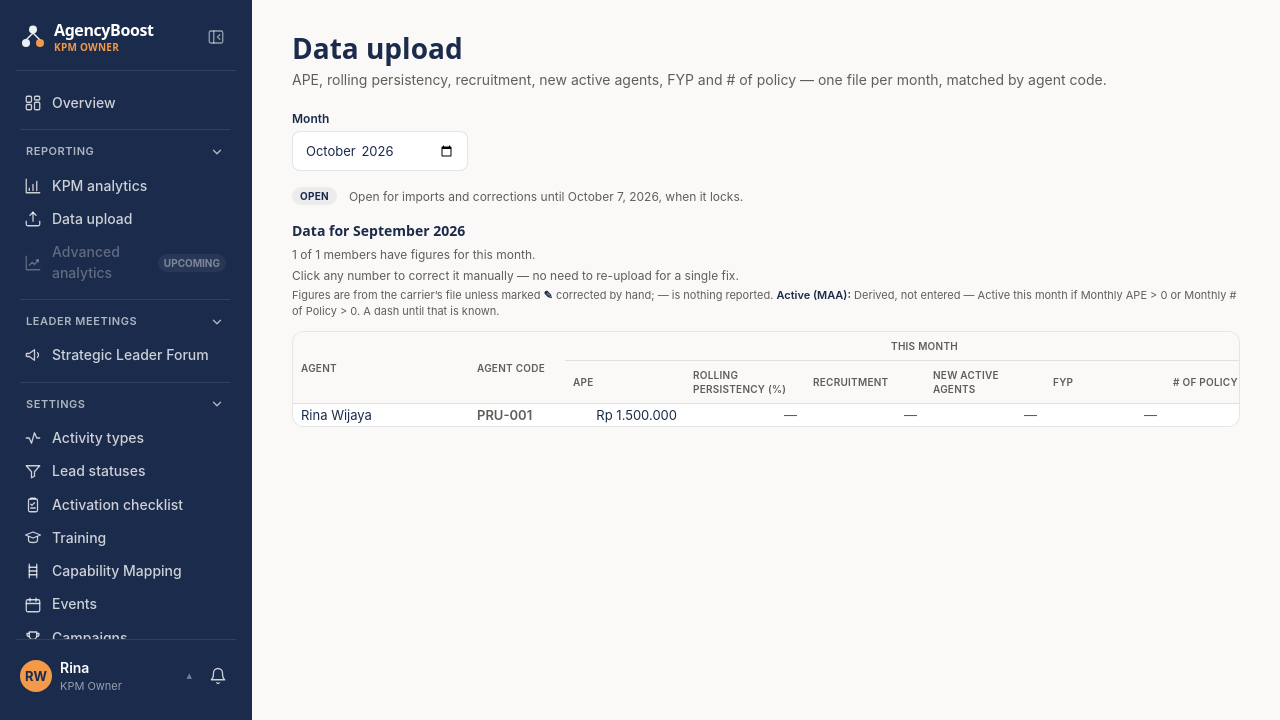
Test case: screens have no axe violations › the month with a figure being corrected, and a refusal on it (P9-T5)
Click the button with aria-label "Correct APE this month for Rina Wijaya, now Rp 1.500.000".
click(637, 415)  # box [592,407,681,423]
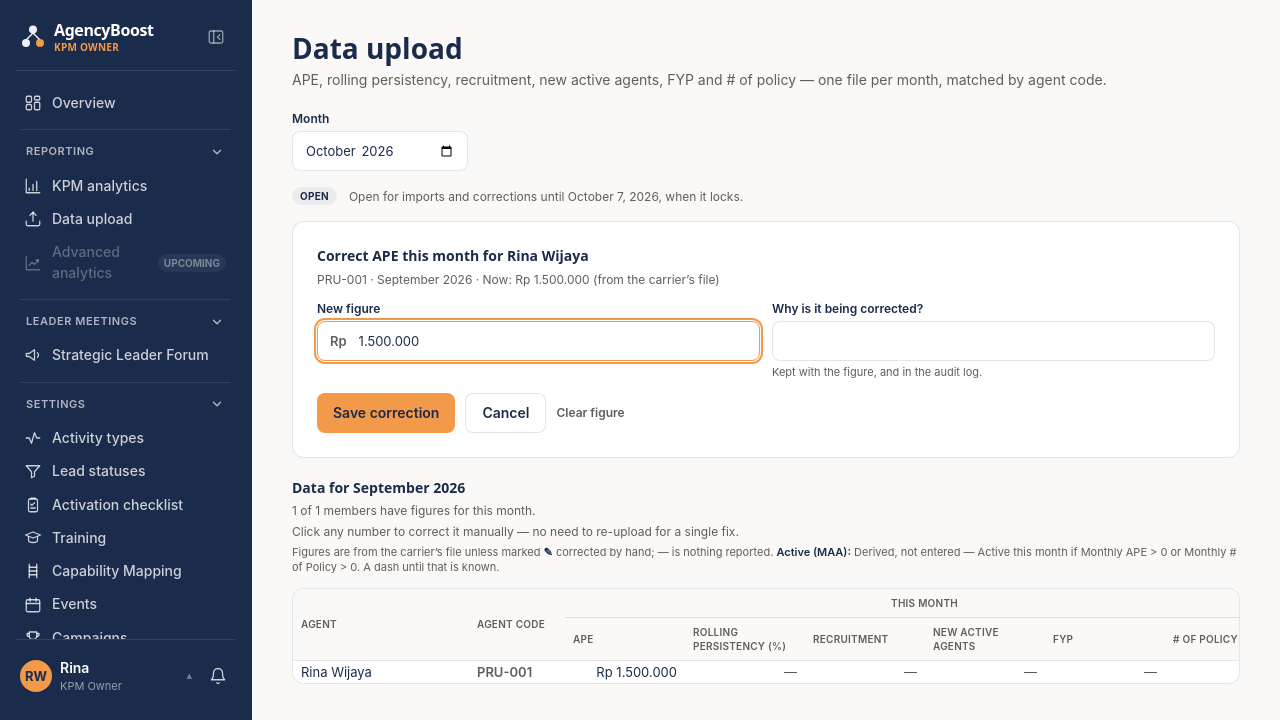
Type "Carrier restated it" into the field labelled "Why is it being corrected?".
click(994, 341); type("Carrier restated it")  # box [772,321,1215,361]
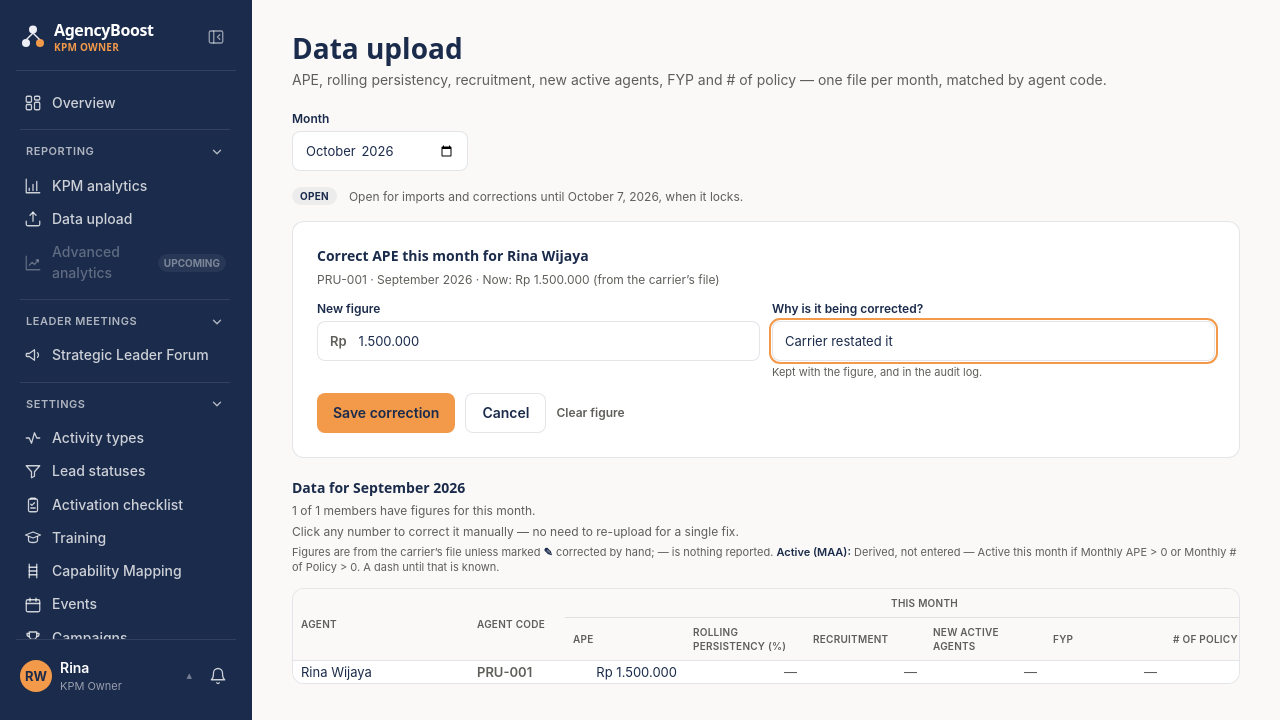
Click the button "Save correction".
click(386, 413)  # box [317,393,455,433]
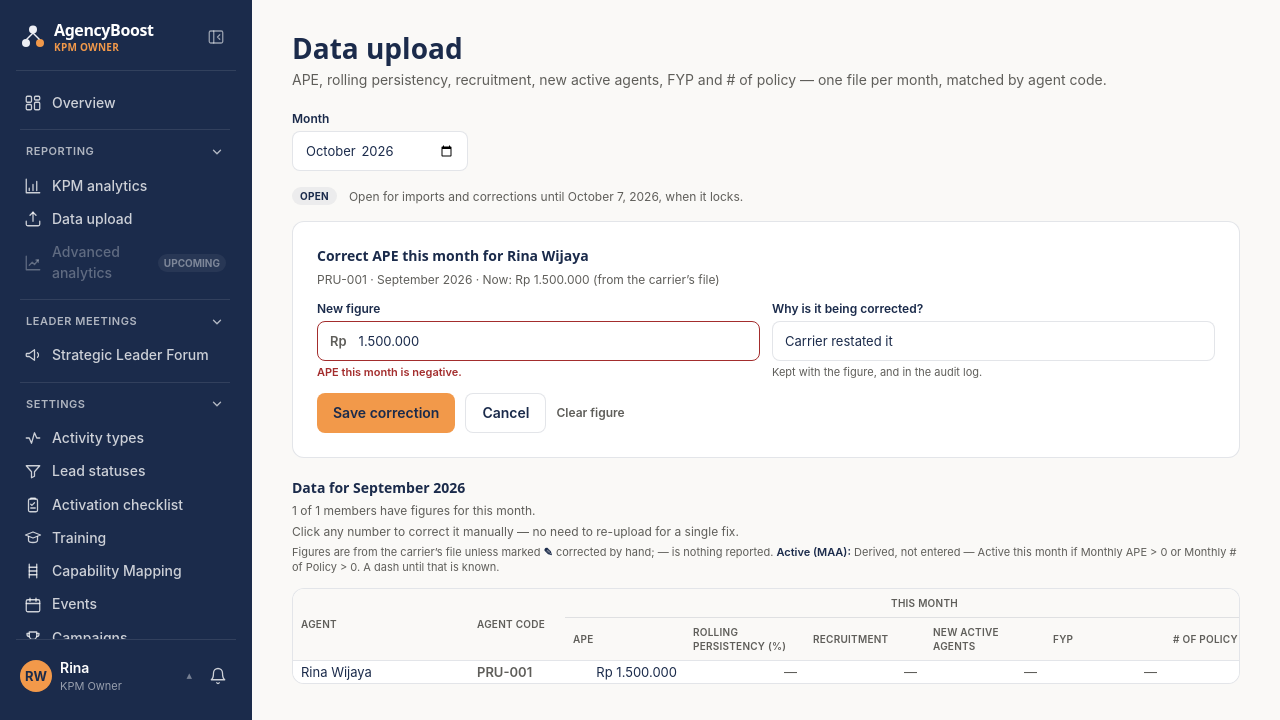
Expected: the text "APE this month is negative." is shown, [317,365,462,379]
